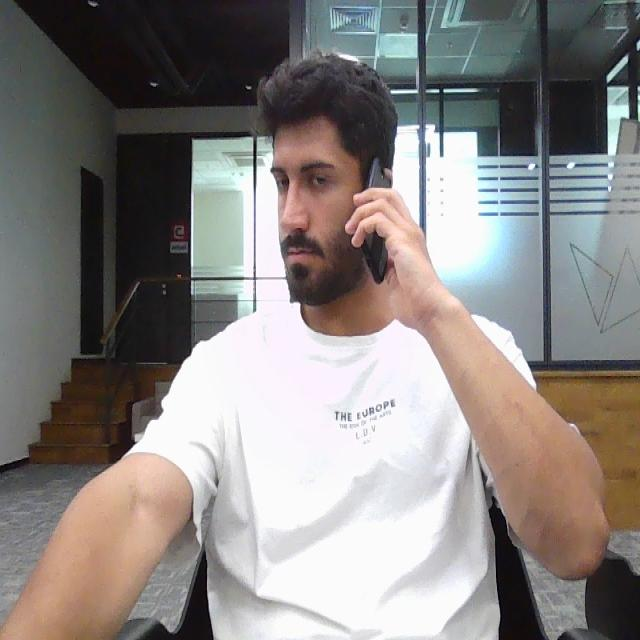phone: (357, 158, 394, 286)
